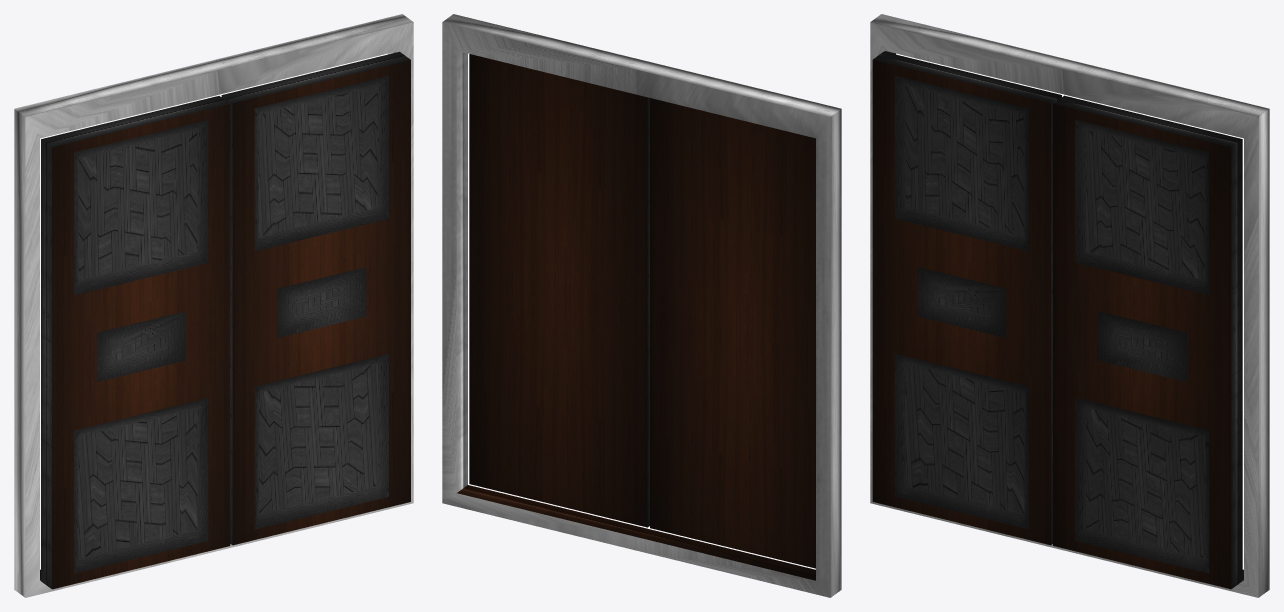
The model's file is doors.fbx.
The picture shows the model from 3 angles, left to right: view 1: azimuth 30°, elevation 25°; view 2: azimuth 150°, elevation 25°; view 3: azimuth 330°, elevation 25°; orthographic projection.
Parts seen in each view (by area): view 1: Cube; view 2: Cube; view 3: Cube.
Boxes of the visible parts, x1=… form: Cube: x1=14, y1=14, x2=413, y2=597; Cube: x1=442, y1=14, x2=841, y2=597; Cube: x1=870, y1=14, x2=1269, y2=597.
Bounding box in the file's own units: 4.61 × 5.46 × 0.4816.
